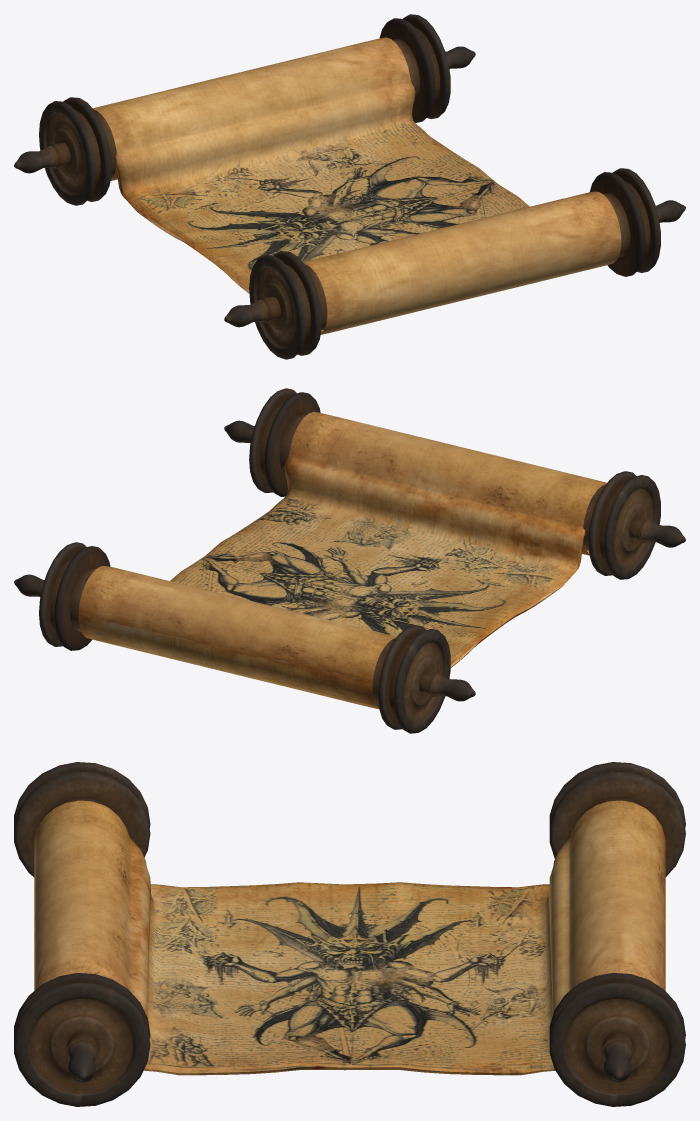
Rendered from Demon_scroll.fbx.
3 views of the same model, one above another, from view 1: azimuth 30°, elevation 25°; view 2: azimuth 150°, elevation 25°; view 3: azimuth 270°, elevation 25° (orthographic). The views are drawn at different scales.
Visible parts, largest first — view 1: SM_scroll_paper_short_66, SM_scroll_wheel_67, SM_scroll_wheel_001_68; view 2: SM_scroll_paper_short_66, SM_scroll_wheel_001_68, SM_scroll_wheel_67; view 3: SM_scroll_paper_short_66, SM_scroll_wheel_001_68, SM_scroll_wheel_67.
Part boxes in pixels (box(x1,y1,x2,y2)): SM_scroll_paper_short_66: box(93, 37, 621, 334); SM_scroll_wheel_67: box(224, 168, 685, 359); SM_scroll_wheel_001_68: box(14, 14, 475, 205); SM_scroll_paper_short_66: box(78, 411, 606, 709); SM_scroll_wheel_001_68: box(14, 542, 475, 733); SM_scroll_wheel_67: box(224, 388, 685, 579); SM_scroll_paper_short_66: box(34, 800, 665, 1075); SM_scroll_wheel_001_68: box(549, 762, 685, 1106); SM_scroll_wheel_67: box(14, 762, 150, 1106).
Bounding box in the file's own units: 56.38 × 11.38 × 55.89.
Materials: 1 (1 with a texture image).
